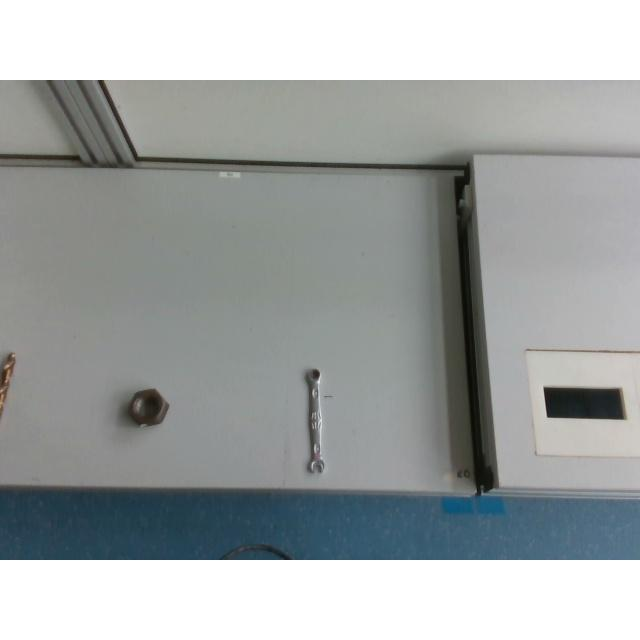Drill: (0, 354, 16, 434)
M30: (126, 388, 170, 428)
Wrench: (306, 370, 324, 470)
